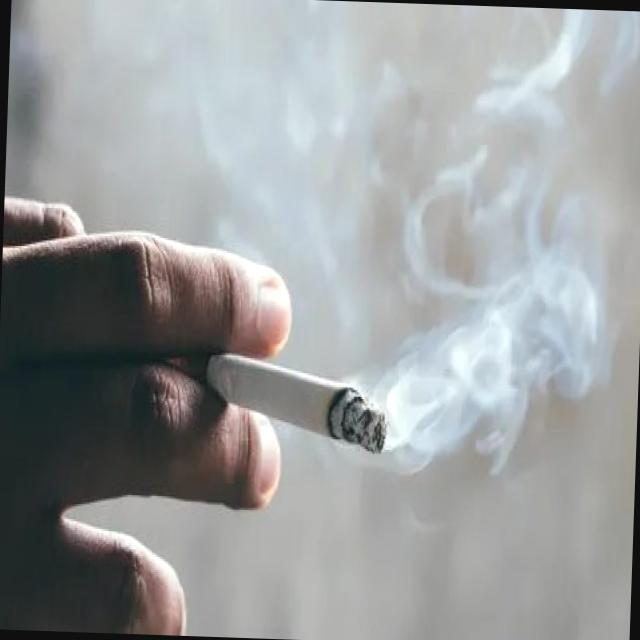smoke: (172, 322, 392, 460)
